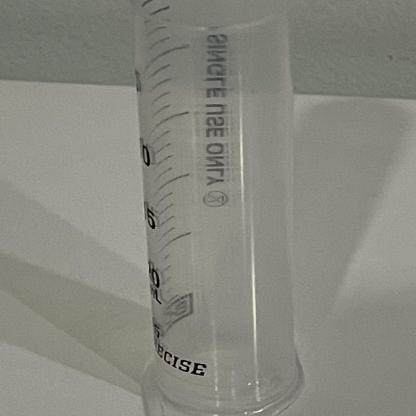dry: (99, 2, 349, 415)
